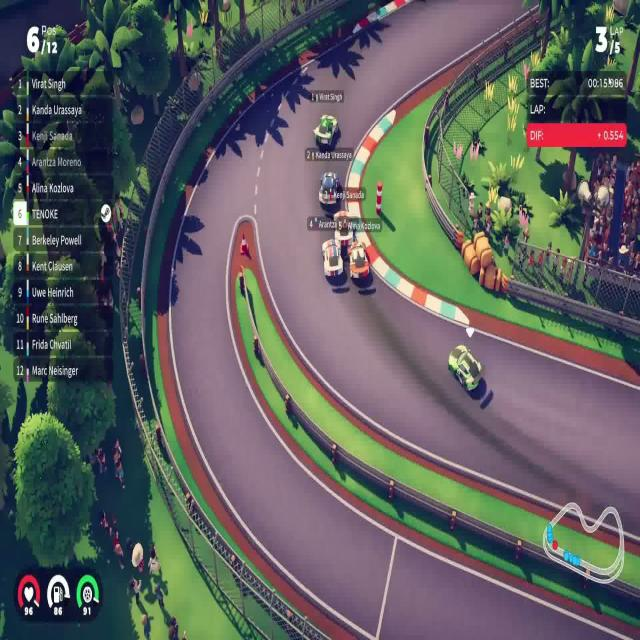car: (447, 342, 483, 393), (312, 112, 339, 148), (321, 238, 344, 280), (348, 242, 370, 283), (318, 169, 340, 207)
